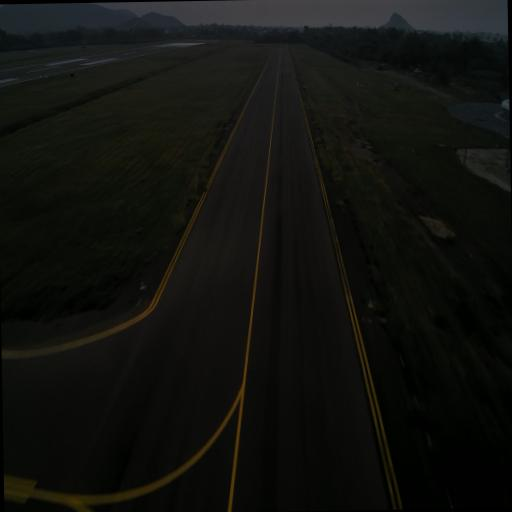on: (368, 296, 375, 314), (139, 278, 146, 294)
